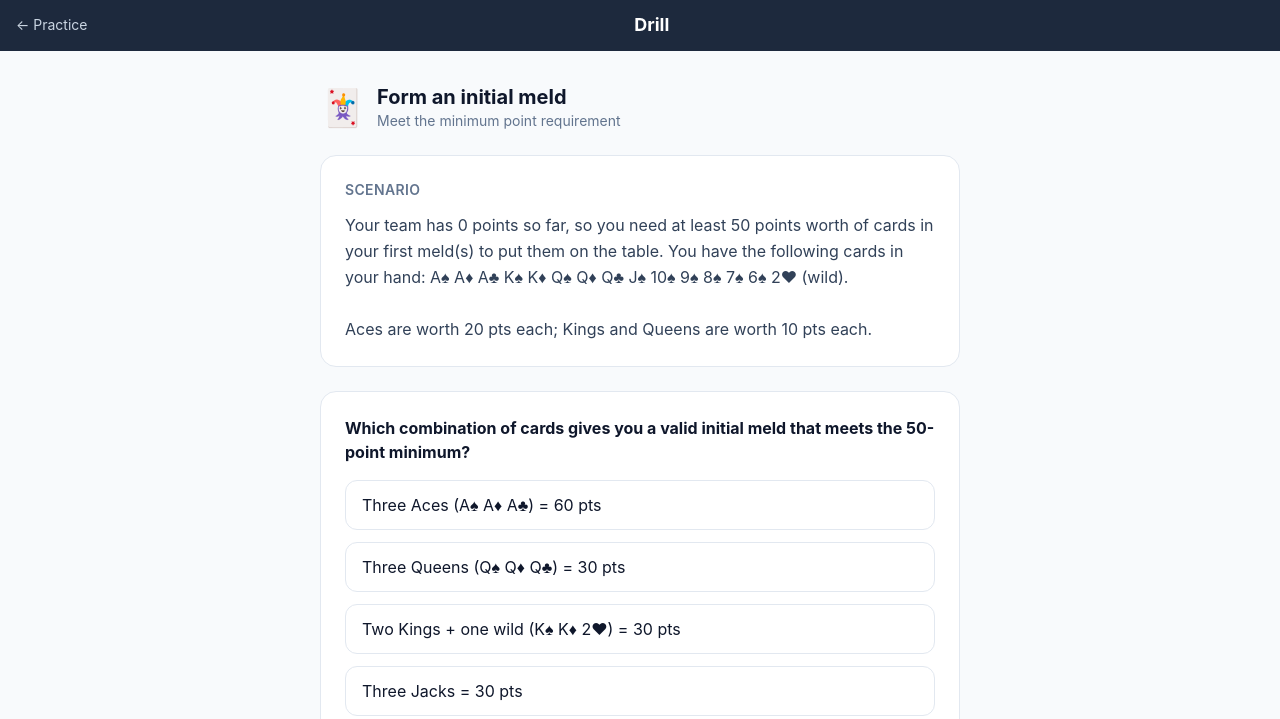
PracticeScenario › shows correct feedback when right option is selected
This screenshot has width=1280, height=719.
What coordinates should you click on to do the following:
click the button "Three Aces (A♠ A♦ A♣) = 60 pts"
I would click on:
 (482, 505)
Its box is [345, 480, 935, 530].
(page scrolled)
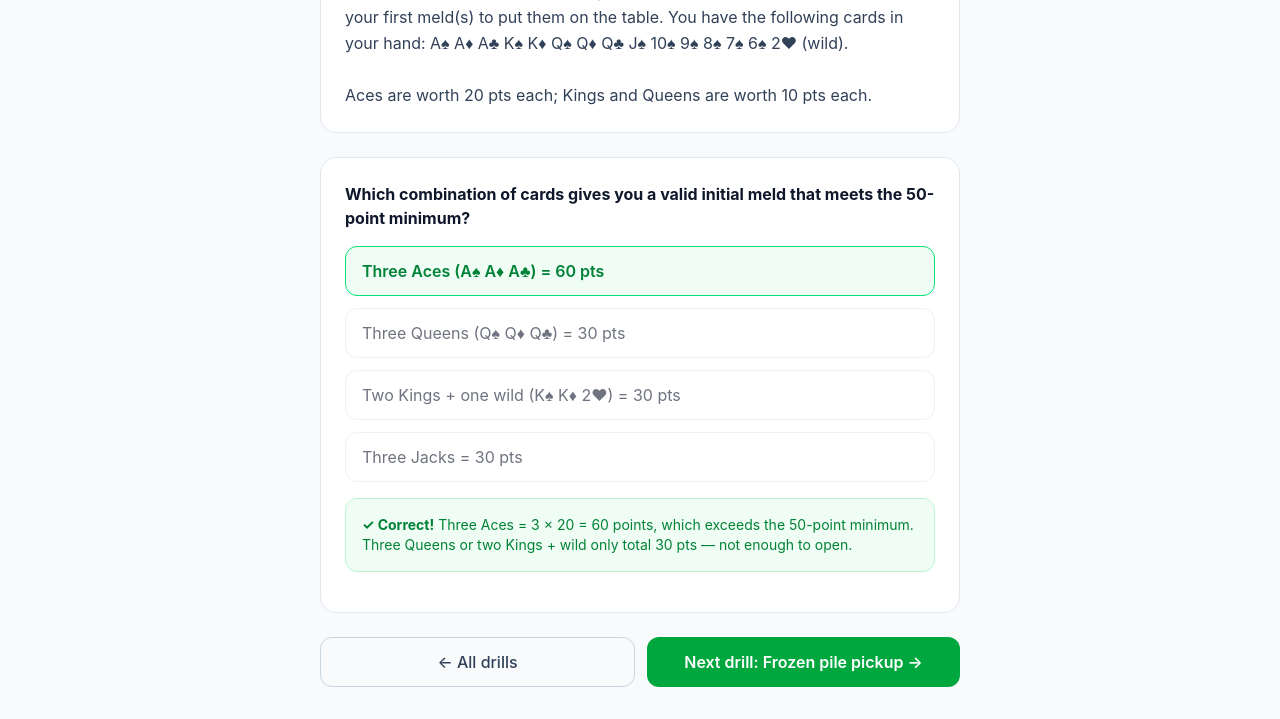
Check: the text "✓ Correct!" is shown, box [362, 516, 434, 533]
